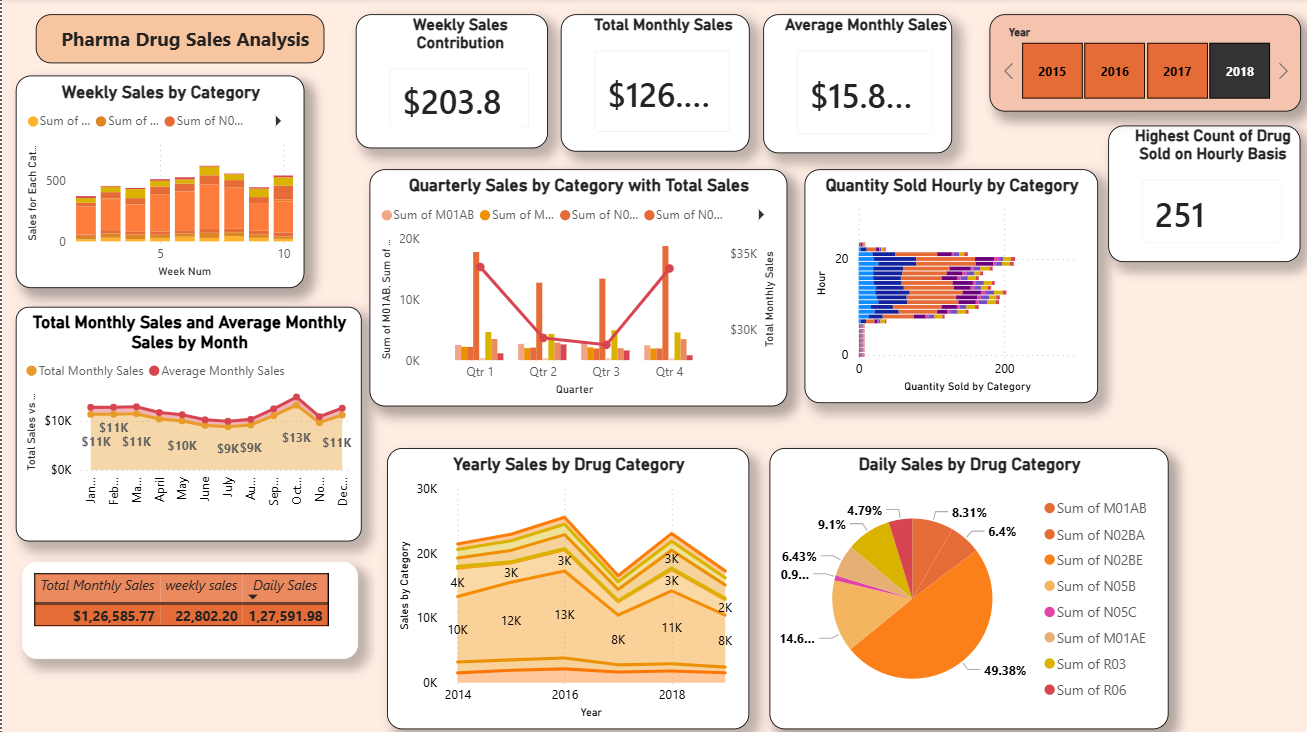

What the dashboard file says about the page in this screenshot:
{"tool":"powerbi","page":{"name":"Page 1","canvas":[1280,720],"ordinal":0},"visuals":[{"type":"textbox","box":[32.9,16.5,282.7,48],"z":0},{"type":"columnChart","title":"Weekly Sales by Category","fields":{"Category":["Sales Weekly.Week Num"],"Y":["Sum(Sales Weekly.M01AE)","Sum(Sales Weekly.M01AB)","Sum(Sales Weekly.N02BA)","Sum(Sales Weekly.N02BE)","Sum(Sales Weekly.N05C)","Sum(Sales Weekly.N05B)","Sum(Sales Weekly.R03)","Sum(Sales Weekly.R06)"]},"box":[13.5,75.8,282.5,207.9],"z":1000},{"type":"stackedAreaChart","fields":{"Category":["Sales Monthly.Date.Variation.Date Hierarchy.Month"],"Y":["Sales Monthly.Total Monthly Sales","Sales Monthly.Average Monthly Sales"]},"box":[13.5,302,338.7,229.9],"z":2000},{"type":"barChart","title":"Quantity Sold Hourly by Category","fields":{"Category":["Sales Hourly.Hour"],"Y":["Count(Sales Hourly.M01AB)","Count(Sales Hourly.M01AE)","Count(Sales Hourly.N02BE)","Count(Sales Hourly.N02BA)","Count(Sales Hourly.N05C)","Count(Sales Hourly.N05B)","Count(Sales Hourly.R03)","Count(Sales Hourly.R06)"]},"box":[785.1,167.5,287.4,228.7],"z":3000},{"type":"pieChart","title":"Daily Sales by Drug Category","fields":{"Y":["Sum(Sales Daily.M01AB)","Sum(Sales Daily.N02BA)","Sum(Sales Daily.N02BE)","Sum(Sales Daily.N05B)","Sum(Sales Daily.N05C)","Sum(Sales Daily.M01AE)","Sum(Sales Daily.R03)","Sum(Sales Daily.R06)"]},"box":[750.8,440.2,390.1,275.1],"z":4000},{"type":"stackedAreaChart","title":"Yearly Sales by Drug Category","fields":{"Category":["Sales Monthly.Date.Variation.Date Hierarchy.Year"],"Y":["Sum(Sales Monthly.M01AB)","Sum(Sales Monthly.N02BA)","Sum(Sales Monthly.N02BE)","Sum(Sales Monthly.N05B)","Sum(Sales Monthly.N05C)","Sum(Sales Monthly.R03)","Sum(Sales Monthly.M01AE)","Sum(Sales Monthly.R06)"]},"box":[376.6,440.2,354.6,275.1],"z":5000},{"type":"lineClusteredColumnComboChart","title":"Quarterly Sales by Category with Total Sales","fields":{"Category":["Sales Monthly.Date.Variation.Date Hierarchy.Quarter"],"Y":["Sum(Sales Monthly.M01AB)","Sum(Sales Monthly.M01AE)","Sum(Sales Monthly.N02BA)","Sum(Sales Monthly.N02BE)","Sum(Sales Monthly.N05C)","Sum(Sales Monthly.N05B)","Sum(Sales Monthly.R03)","Sum(Sales Monthly.R06)"],"Y2":["Sales Monthly.Total Monthly Sales"]},"box":[359.5,167.5,408.4,232.3],"z":6000},{"type":"cardVisual","title":"Weekly Sales Contribution","fields":{"Data":["Sales Weekly.weekly sales contribution by N02BE"]},"box":[346.1,15.9,188.3,130.8],"z":7000},{"type":"cardVisual","title":"Highest  Count  of Drug Sold on Hourly Basis","fields":{"Data":["Count(Sales Hourly.N02BE)"]},"box":[1082.2,124.7,188.3,133.3],"z":8000},{"type":"cardVisual","title":"Total Monthly Sales","fields":{"Data":["Sales Monthly.Total Monthly Sales"]},"box":[546.6,15.9,184.6,134.5],"z":9000},{"type":"cardVisual","title":"Average  Monthly Sales","fields":{"Data":["Sales Monthly.Average Monthly Sales"]},"box":[744.7,15.9,184.6,135.7],"z":10000},{"type":"tableEx","fields":{"Values":["Sales Monthly.Total Monthly Sales","Sales Weekly.weekly sales","Sales Daily.Daily Sales"]},"box":[19.6,551.5,328.9,95.4],"z":10001},{"type":"slicer","fields":{"Values":["Sales Weekly.Date.Variation.Date Hierarchy.Year"]},"box":[975.8,15.9,304.5,95.4],"z":10002}]}

Visuals, with their boxes in screenshot pixels (x1, y1, x2, y2), scaled from the page's 1280x720 canvas onto the 1307x732 screenshot:
textbox: x1=34 y1=17 x2=322 y2=66
"Weekly Sales by Category" columnChart: x1=14 y1=77 x2=302 y2=288
stackedAreaChart - Sales Monthly.Date.Variation.Date Hierarchy.Month x Sales Monthly.Total Monthly Sales: x1=14 y1=307 x2=360 y2=541
"Quantity Sold Hourly by Category" barChart: x1=802 y1=170 x2=1095 y2=403
"Daily Sales by Drug Category" pieChart: x1=767 y1=448 x2=1165 y2=727
"Yearly Sales by Drug Category" stackedAreaChart: x1=385 y1=448 x2=747 y2=727
"Quarterly Sales by Category with Total Sales" lineClusteredColumnComboChart: x1=367 y1=170 x2=784 y2=406
"Weekly Sales Contribution" cardVisual: x1=353 y1=16 x2=546 y2=149
"Highest  Count  of Drug Sold on Hourly Basis" cardVisual: x1=1105 y1=127 x2=1297 y2=262
"Total Monthly Sales" cardVisual: x1=558 y1=16 x2=747 y2=153
"Average  Monthly Sales" cardVisual: x1=760 y1=16 x2=949 y2=154
tableEx - Sales Monthly.Total Monthly Sales x Sales Weekly.weekly sales: x1=20 y1=561 x2=356 y2=658
slicer - Sales Weekly.Date.Variation.Date Hierarchy.Year: x1=996 y1=16 x2=1306 y2=113
